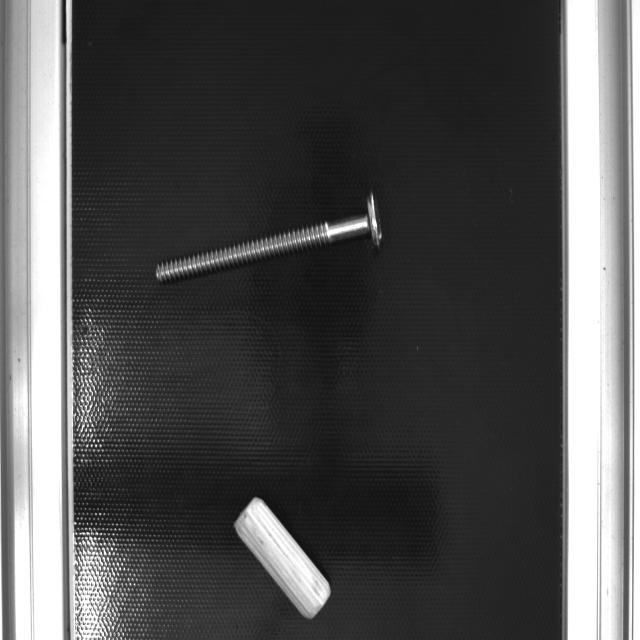Chot go: (232, 493, 336, 624)
bulon: (155, 211, 366, 288)
